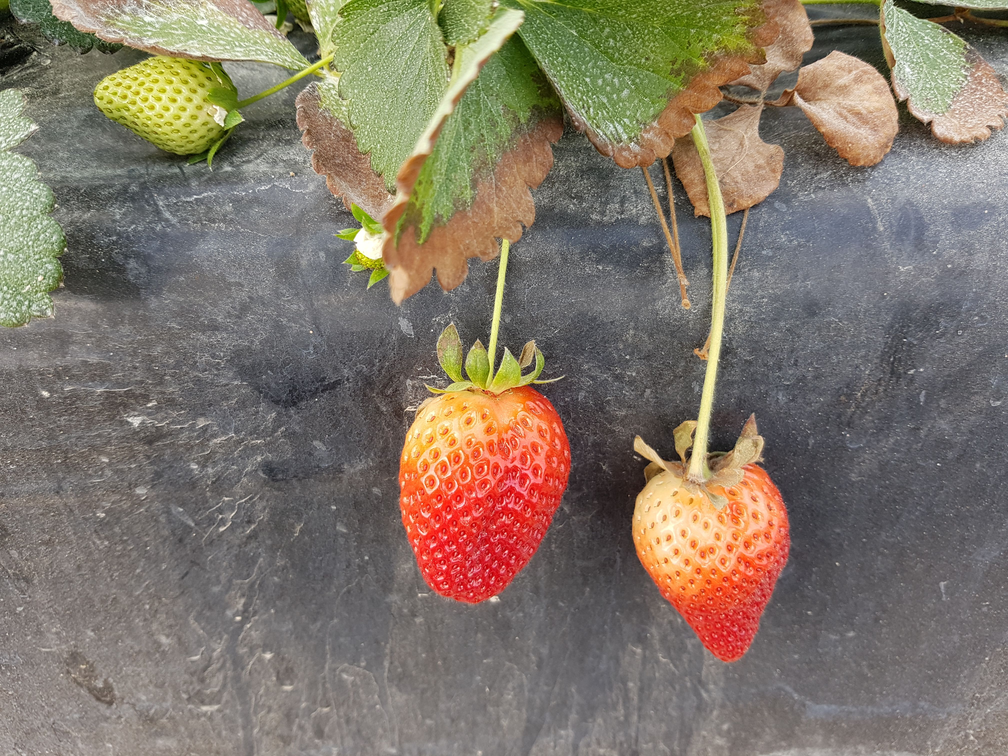peduncle: (687, 116, 726, 480), (236, 56, 330, 108), (488, 240, 508, 372)
strawberry: (400, 387, 569, 602), (632, 461, 789, 660), (94, 56, 240, 154)
